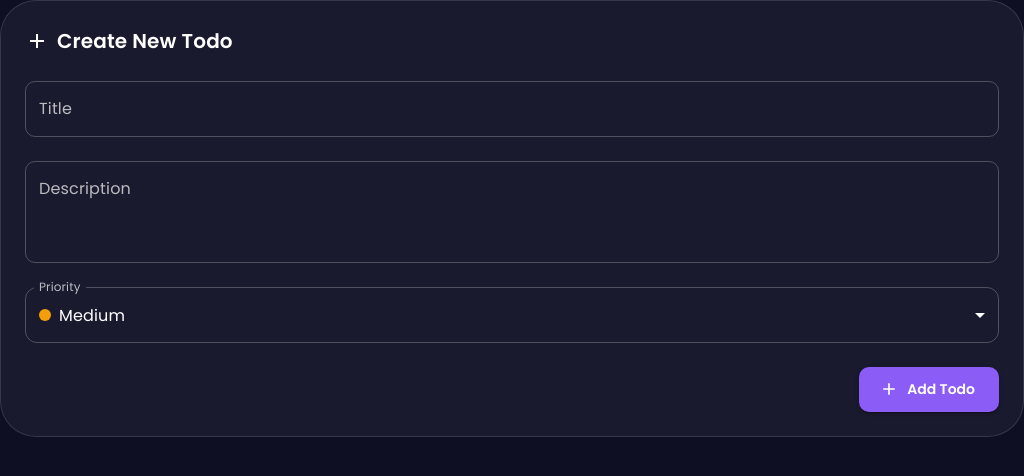
Test case: TodoForm › form validation › should show error for empty title on blur
Click the field labelled "Title".
click(512, 109)  # box [25, 81, 999, 137]
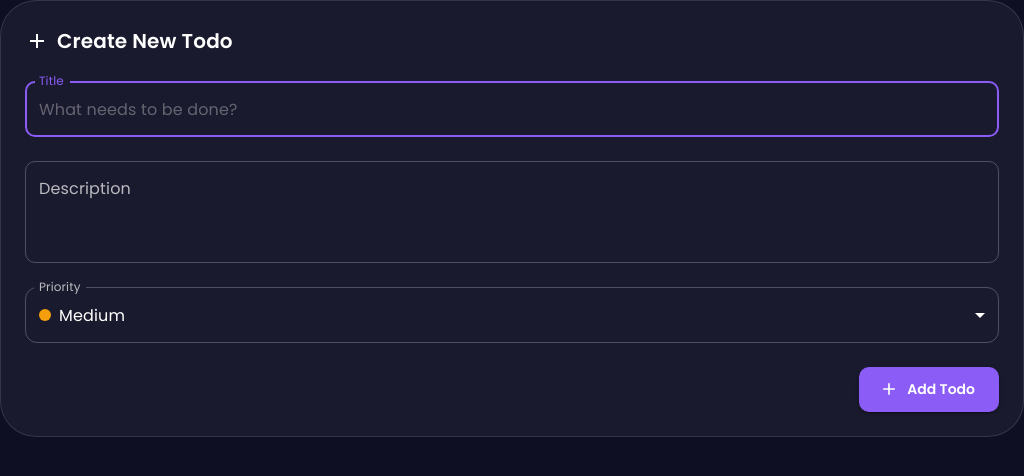
Press Tab
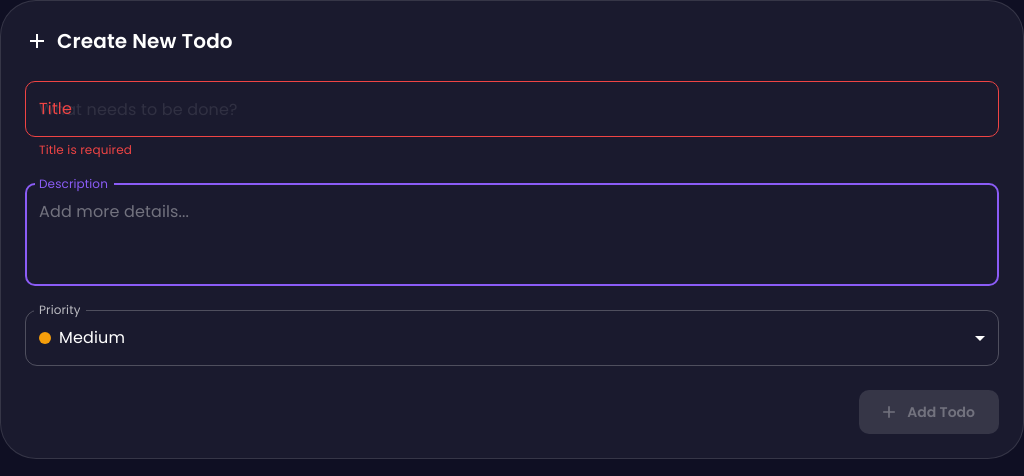
Result: the text "Title is required" is shown at [39, 141, 132, 158]
